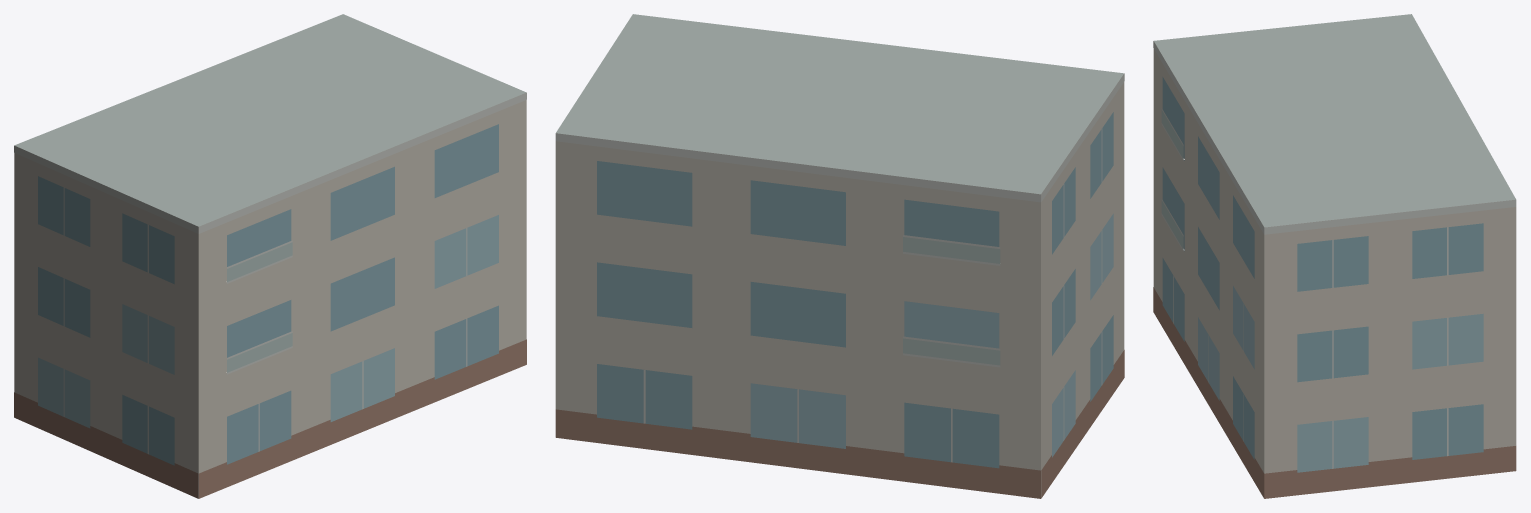
The model's file is survey-upis-32686872.glb.
The picture shows the model from 3 angles, left to right: view 1: azimuth 30°, elevation 25°; view 2: azimuth 150°, elevation 25°; view 3: azimuth 270°, elevation 25°; orthographic projection. The views are drawn at different scales.
Parts seen in each view (by area): view 1: survey-upis-32686872.tmp; view 2: survey-upis-32686872.tmp; view 3: survey-upis-32686872.tmp.
Part boxes in pixels (x1=…): survey-upis-32686872.tmp: x1=14, y1=14, x2=526, y2=498; survey-upis-32686872.tmp: x1=555, y1=14, x2=1124, y2=498; survey-upis-32686872.tmp: x1=1153, y1=14, x2=1516, y2=498.
Bounding box in the file's own units: 15.45 × 9.15 × 11.1.
